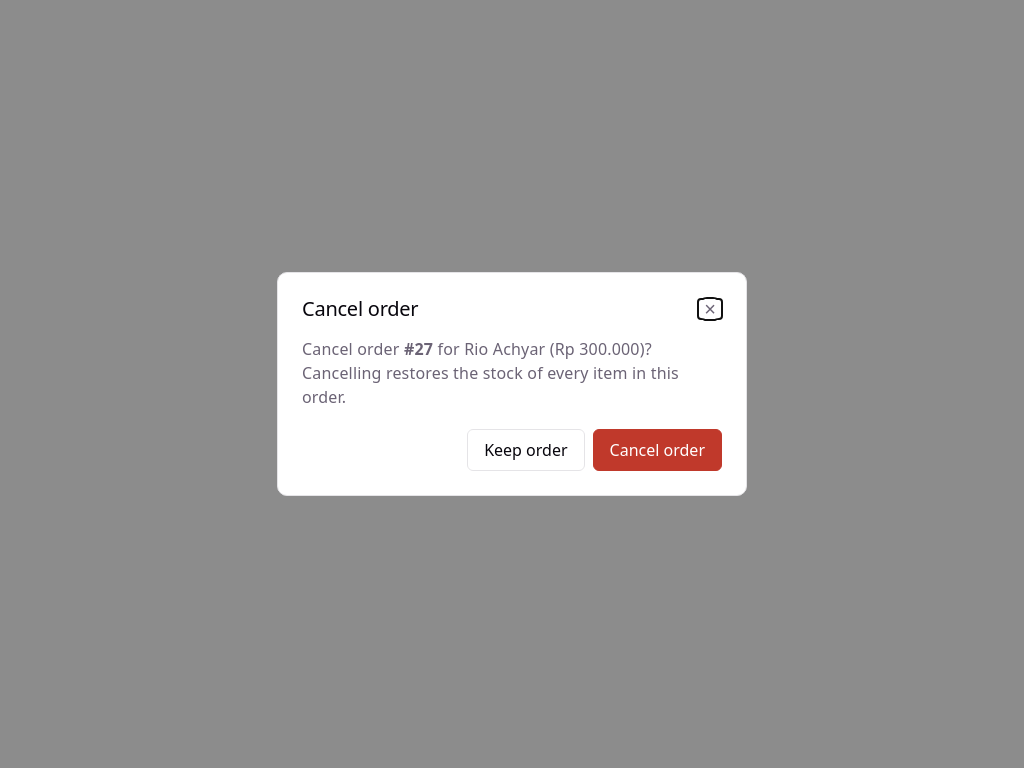
it: CancelOrderDialog › shows the backend error when the cancellation is refused
What coordinates should you click on to do the following:
click the button "Cancel order"
I would click on:
 (657, 450)
Its box is [593, 429, 722, 471].
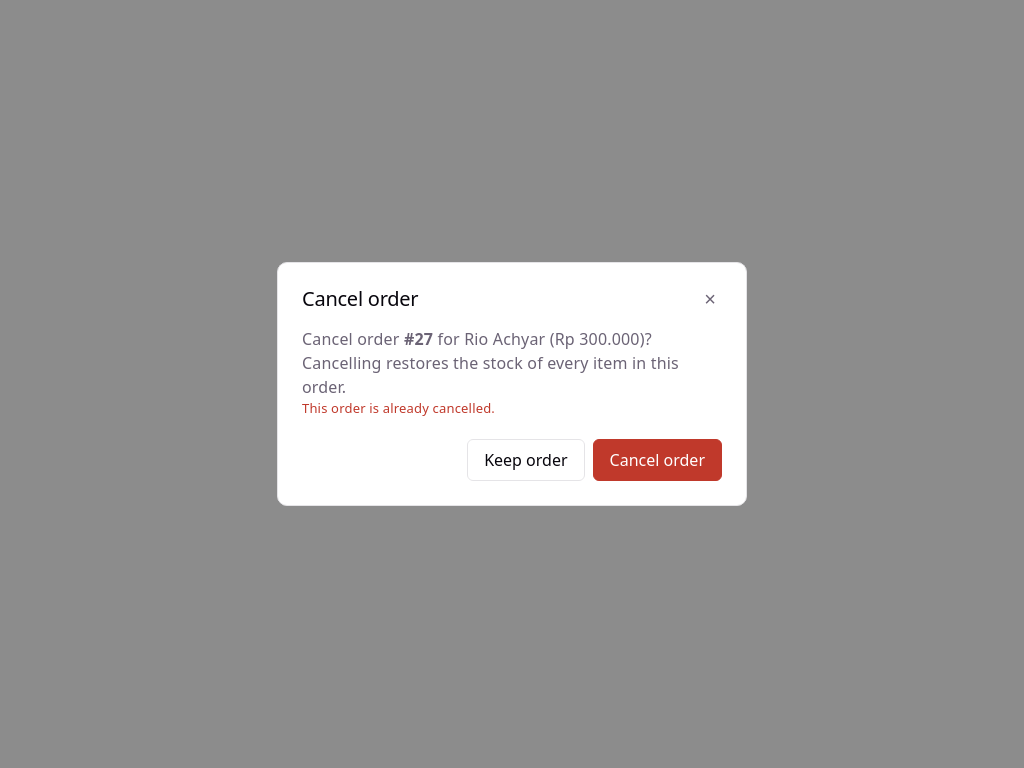
Now the text "This order is already cancelled." is shown, box [302, 399, 495, 417]
